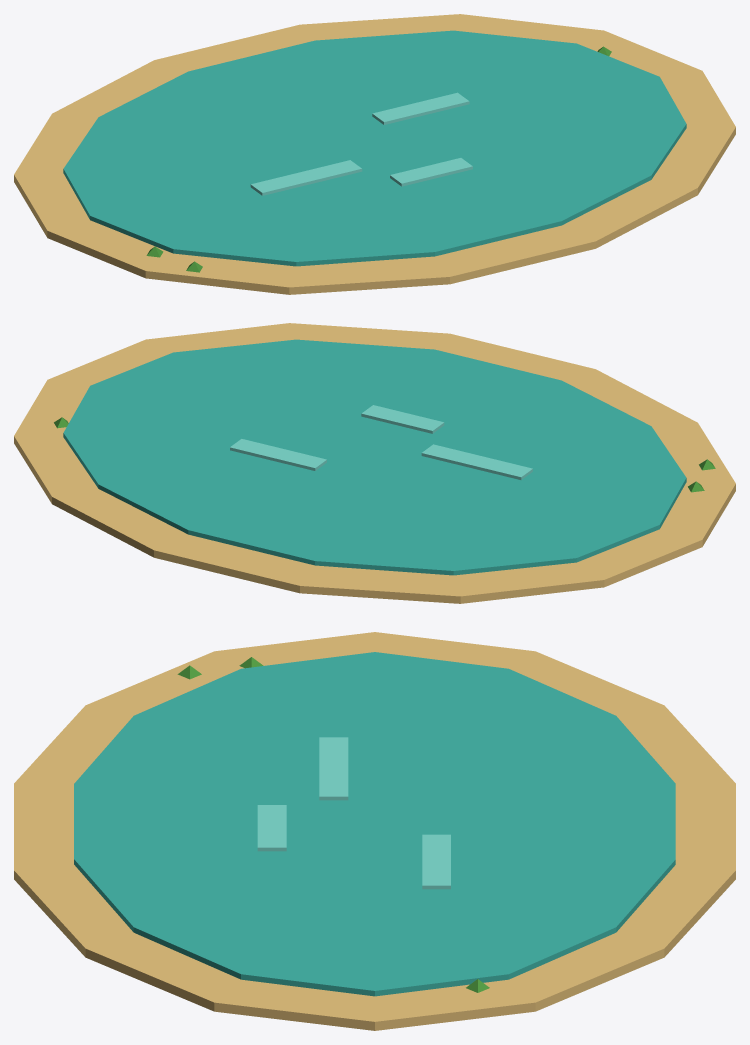
File: env_r5_oasis_pond.glb
3 views of the same model, one above another, from view 1: azimuth 30°, elevation 25°; view 2: azimuth 150°, elevation 25°; view 3: azimuth 270°, elevation 25° (orthographic). The views are drawn at different scales.
Visible parts, largest first — view 1: env_r5_oasis_pond; view 2: env_r5_oasis_pond; view 3: env_r5_oasis_pond.
Part boxes in pixels (x1,y1,x2,y2): env_r5_oasis_pond: (14,14,735,294); env_r5_oasis_pond: (14,323,735,603); env_r5_oasis_pond: (14,632,735,1030).
Bounding box in the file's own units: 4.6 × 0.1 × 3.6.
1 material, 1 textured.
